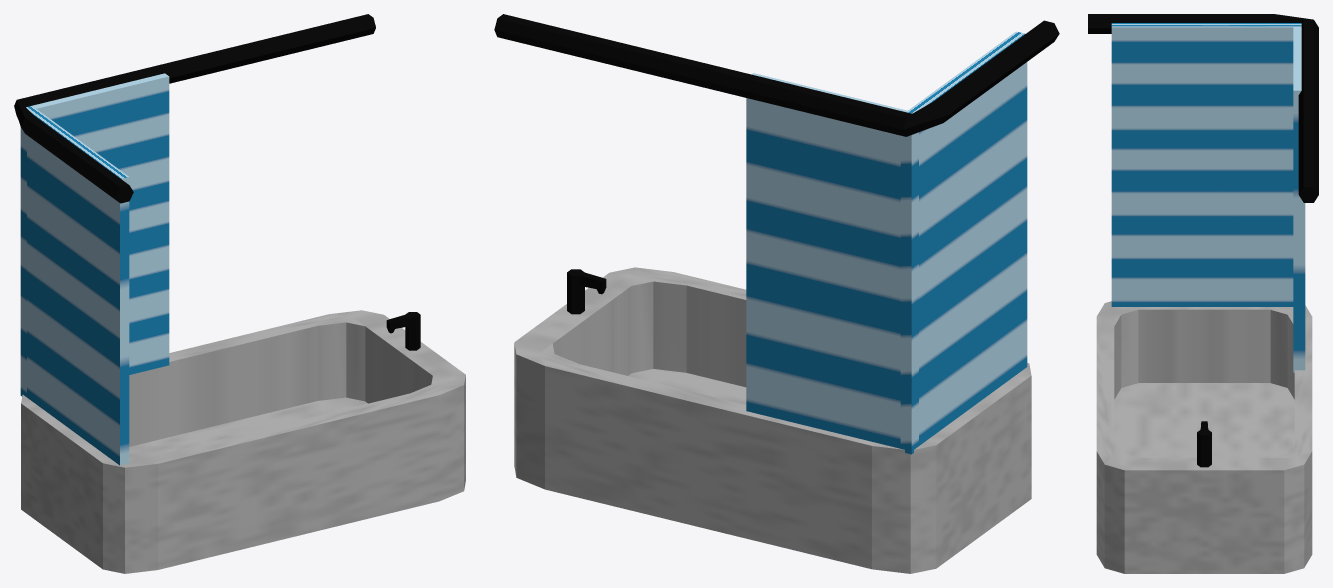
The model's file is Bath.fbx.
The picture shows the model from 3 angles, left to right: view 1: azimuth 30°, elevation 25°; view 2: azimuth 150°, elevation 25°; view 3: azimuth 270°, elevation 25°; orthographic projection. The views are drawn at different scales.
Visible parts, largest first — view 1: BathRail, Bath; view 2: Bath, BathRail; view 3: Bath, BathRail.
Boxes of the visible parts, x1,y1,x2,y2 form: BathRail: (21,310,465,573); Bath: (14,14,375,465); Bath: (494,14,1059,454); BathRail: (514,267,1031,573); Bath: (1088,14,1318,372); BathRail: (1096,301,1312,573).
Bounding box in the file's own units: 447 × 459 × 248.
